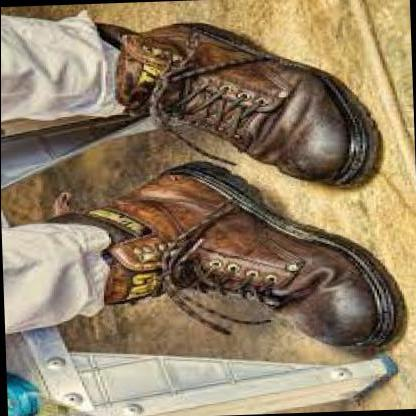safety-shoe: (67, 160, 408, 368), (91, 2, 384, 199)
